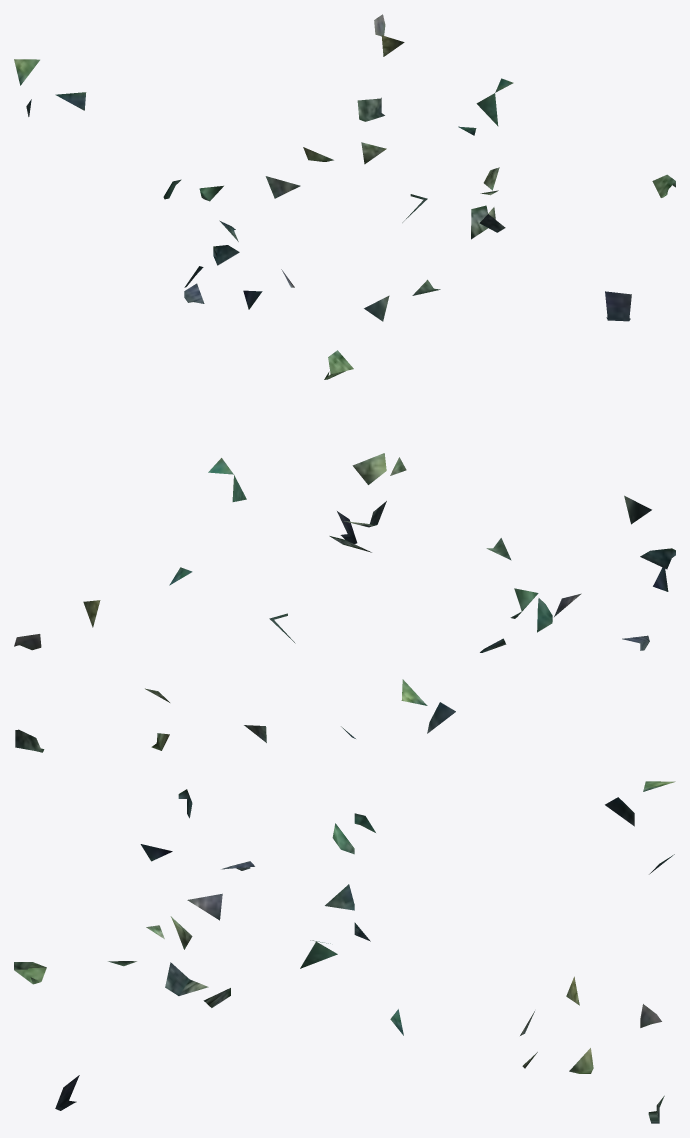
3 renders of one model, top to bottom at view 1: azimuth 30°, elevation 25°; view 2: azimuth 150°, elevation 25°; view 3: azimuth 270°, elevation 25°, orthographic. The views are drawn at different scales.
Parts seen in each view (by area): view 1: 30436272704361534614_1; view 2: 30436272704361534614_1; view 3: 30436272704361534614_1.
Part boxes in pixels (x1,y1,x2,y2): 30436272704361534614_1: (14,14,675,321); 30436272704361534614_1: (14,350,675,752); 30436272704361534614_1: (14,781,675,1123).
Size of the model in its own units: 27.31 by 10.48 by 37.17.
Materials: 1 (1 with a texture image).
